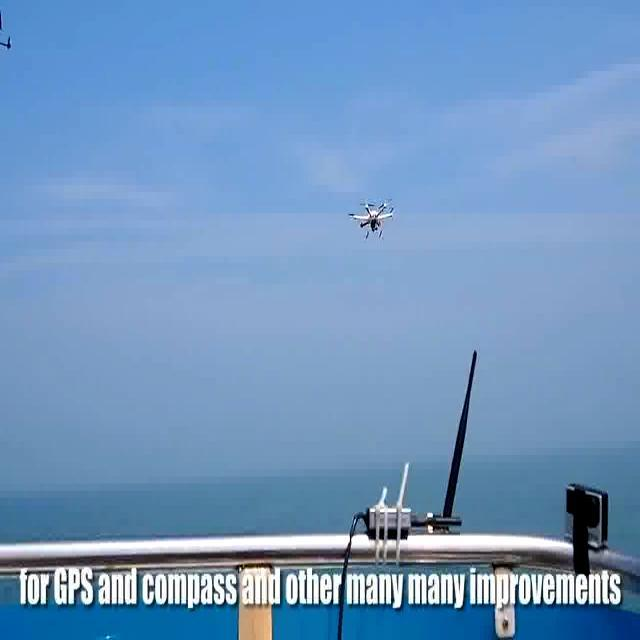drone: (345, 192, 400, 246)
